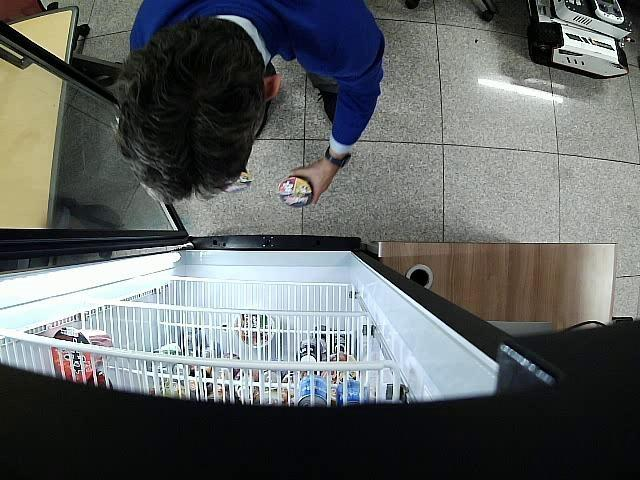08_buldak_S: (278, 176, 314, 208)
